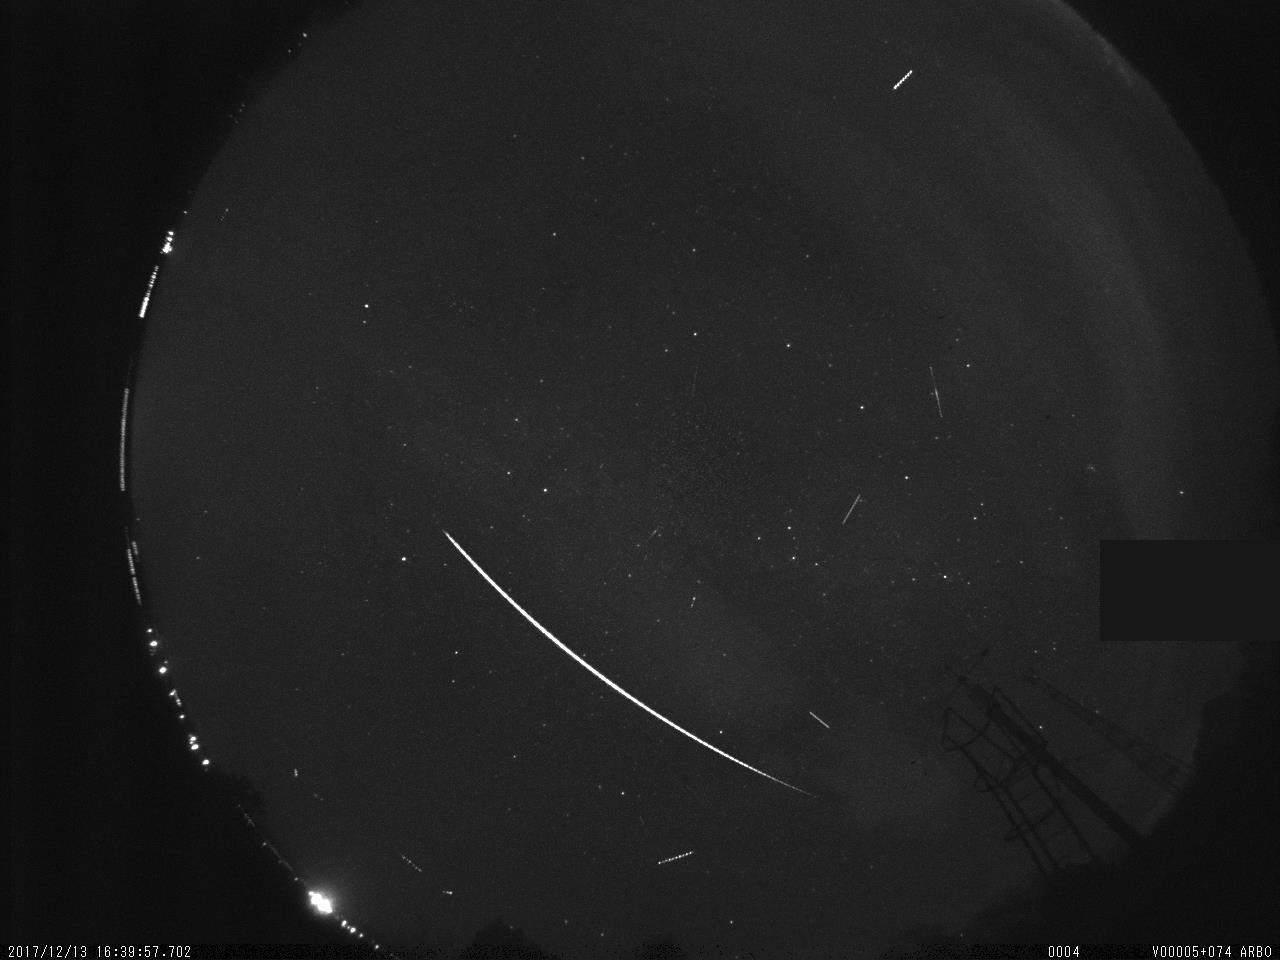meteor: (436, 524, 820, 816)
satelite: (883, 59, 918, 99), (648, 846, 698, 873), (391, 849, 429, 878), (839, 491, 865, 529), (805, 704, 830, 737)
